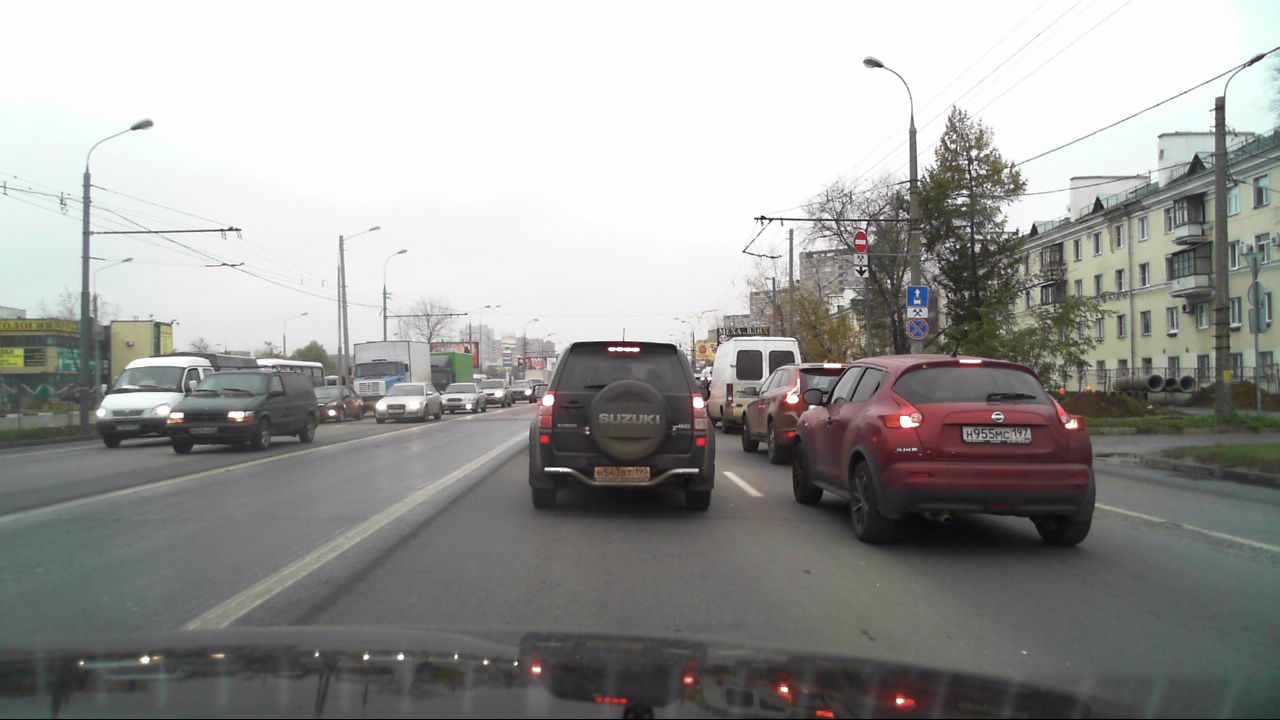No Parking: (905, 317, 929, 340)
